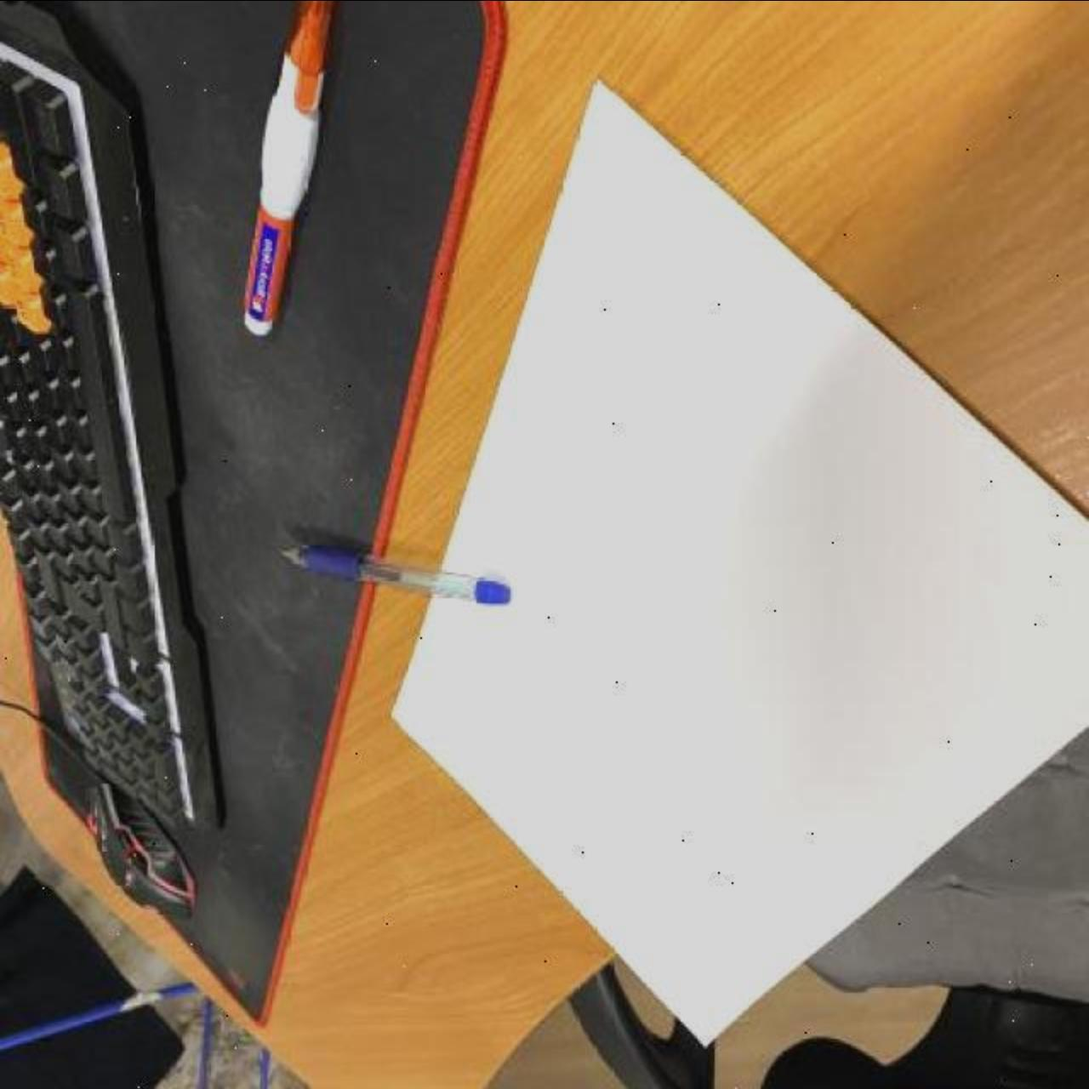pen: (279, 538, 517, 613)
